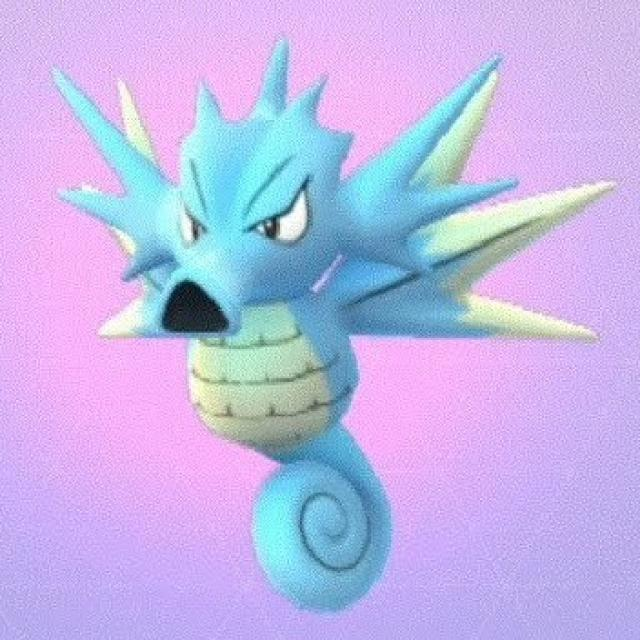Seadra: (102, 72, 512, 613)
